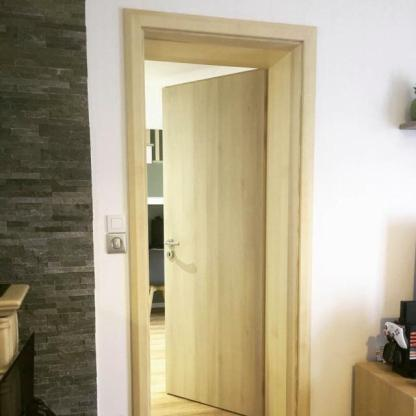door: (119, 3, 322, 414)
